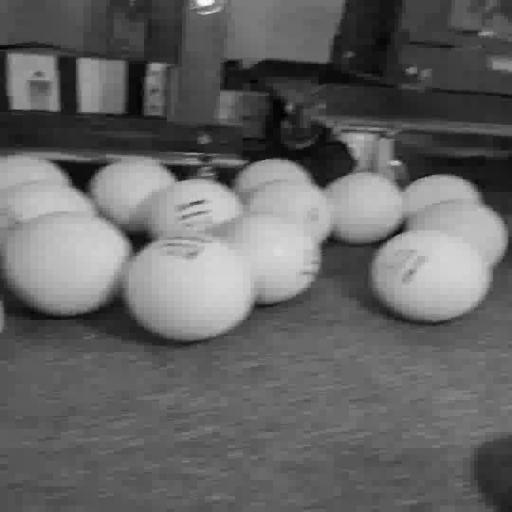fuel: (122, 235, 254, 342), (0, 213, 132, 316), (370, 230, 492, 323), (214, 213, 321, 305), (0, 182, 99, 252), (406, 200, 508, 267), (89, 159, 177, 232), (147, 179, 242, 239), (325, 172, 404, 244), (247, 182, 332, 242), (403, 174, 483, 219), (233, 159, 313, 202), (0, 154, 72, 190)
